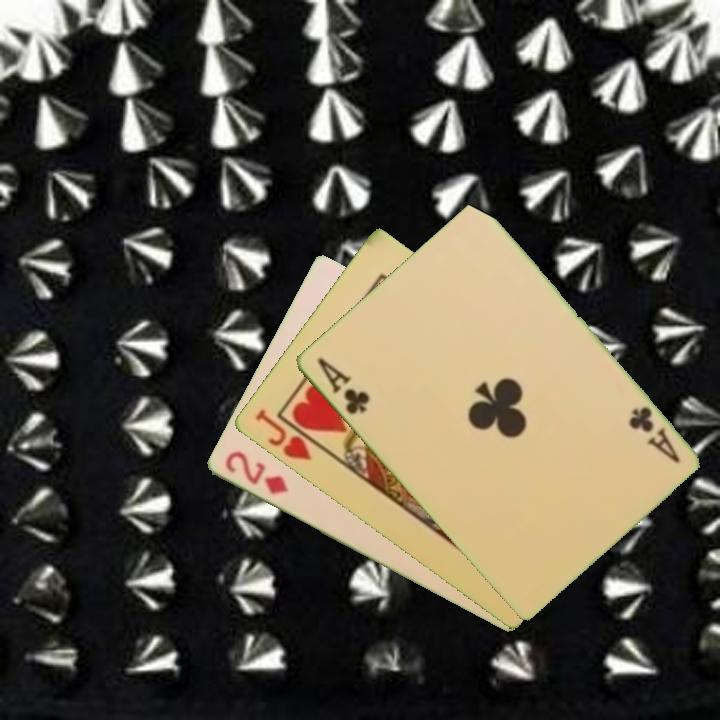2d: (221, 447, 292, 498)
Ac: (313, 354, 373, 418), (624, 402, 683, 467)
Jh: (251, 405, 314, 464)
